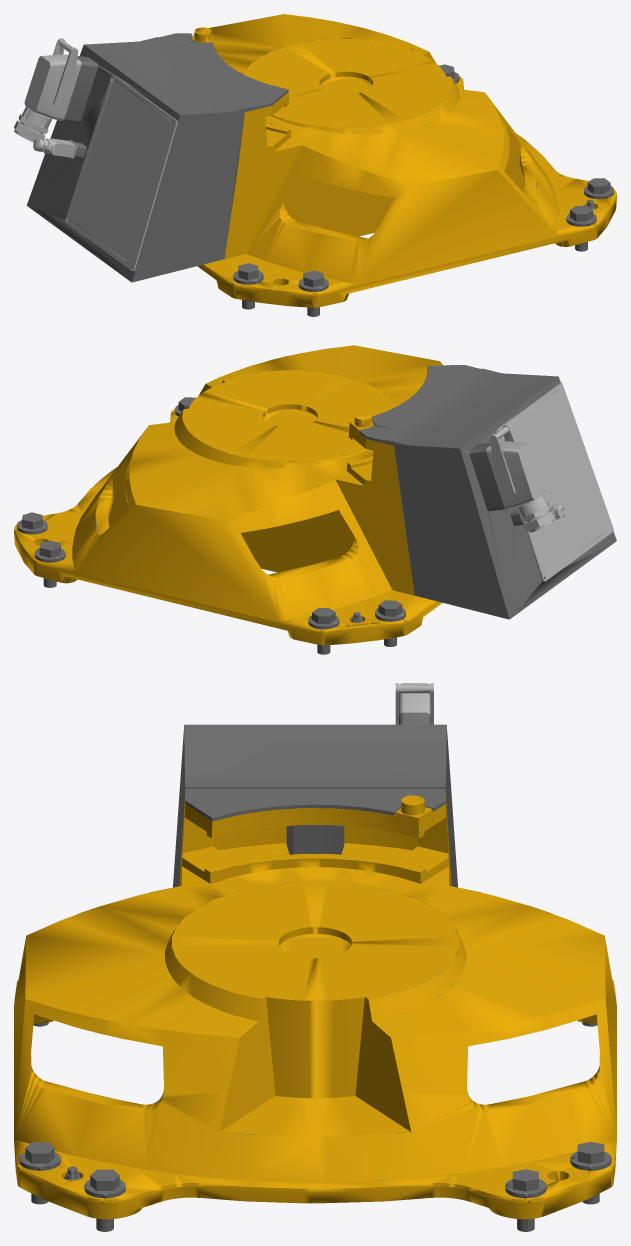
3 views of the same model, one above another, from view 1: azimuth 30°, elevation 25°; view 2: azimuth 150°, elevation 25°; view 3: azimuth 270°, elevation 25° (orthographic). The views are drawn at different scales.
Visible parts, largest first — view 1: KR270R2700_Link0; view 2: KR270R2700_Link0; view 3: KR270R2700_Link0.
Part boxes in pixels (box(x1,y1,x2,y2)): KR270R2700_Link0: box(14, 14, 616, 316); KR270R2700_Link0: box(14, 345, 616, 654); KR270R2700_Link0: box(14, 683, 616, 1231).
Size of the model in its own units: 1.04 by 0.8197 by 0.4007.
